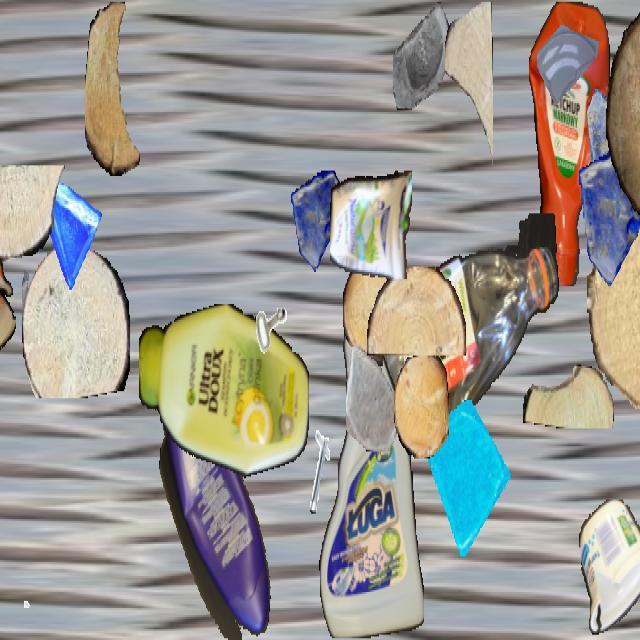glass: (427, 400, 515, 556), (577, 140, 640, 290), (32, 167, 102, 292), (537, 2, 599, 112), (393, 2, 453, 108), (346, 346, 404, 449), (291, 171, 347, 270), (587, 82, 640, 181)
metal: (235, 254, 295, 361), (295, 430, 351, 530), (0, 553, 37, 620)
plastic: (381, 213, 559, 423), (319, 301, 423, 638), (139, 304, 309, 482), (156, 386, 276, 638), (529, 2, 609, 286), (330, 164, 412, 278), (579, 500, 640, 634), (0, 242, 16, 402)
wood: (22, 242, 130, 398), (587, 194, 640, 407), (85, 2, 145, 176), (367, 266, 465, 356), (445, 2, 493, 172), (606, 2, 640, 229), (0, 166, 65, 262), (523, 364, 613, 428), (394, 356, 448, 458), (343, 260, 393, 366)
